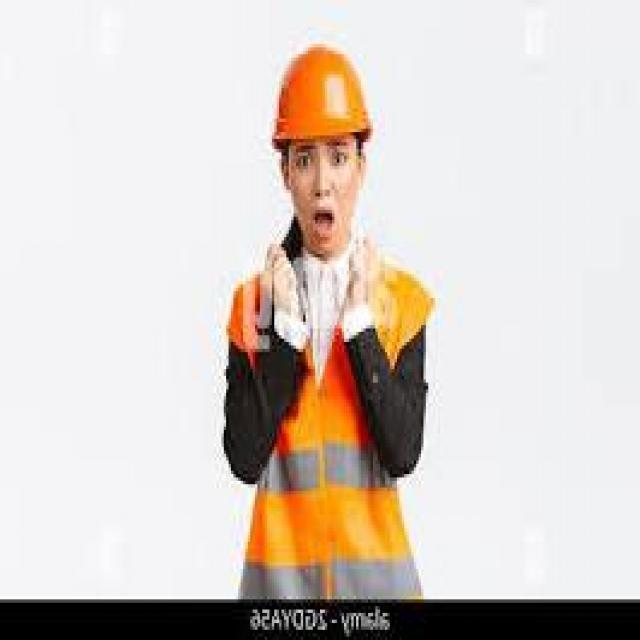Reflective-Jacket: (228, 251, 431, 596)
Safety-Helmet: (265, 34, 375, 149)
